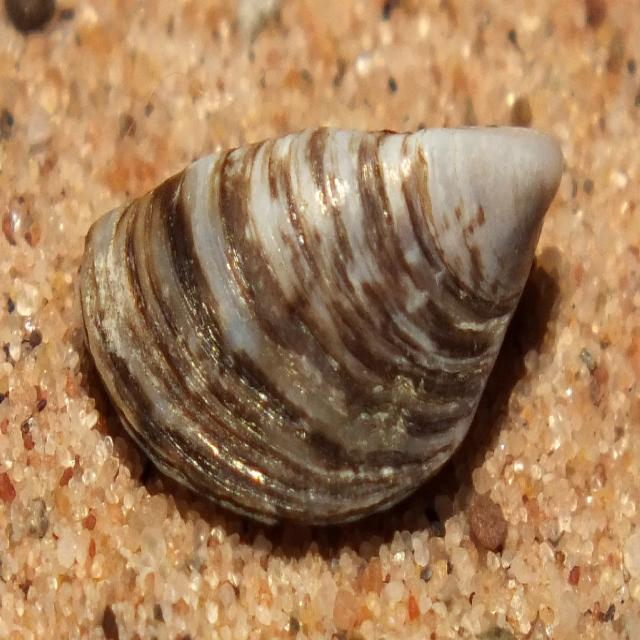Dreissena_polymorpha: (77, 127, 565, 531)
